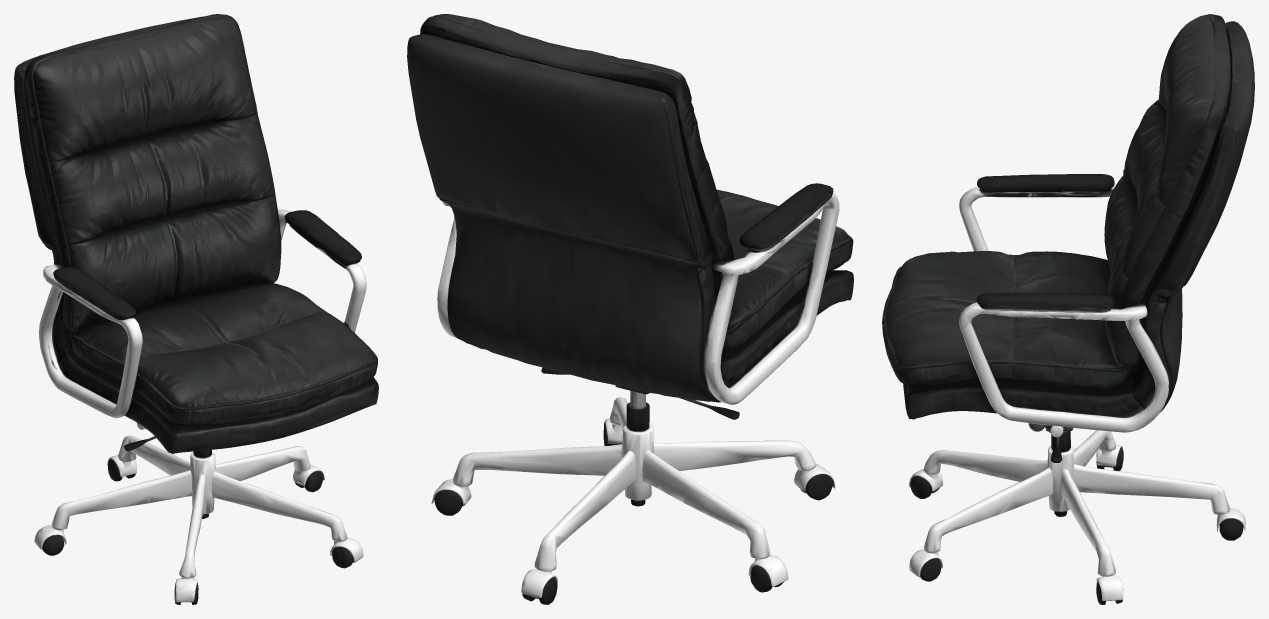
File: chair.glb
The picture shows the model from 3 angles, left to right: view 1: azimuth 30°, elevation 25°; view 2: azimuth 150°, elevation 25°; view 3: azimuth 270°, elevation 25°; orthographic projection. The views are drawn at different scales.
Parts seen in each view (by area): view 1: model; view 2: model; view 3: model.
Part boxes in pixels (box(x1,y1,x2,y2)): model: box(14, 14, 378, 604); model: box(407, 14, 853, 604); model: box(882, 14, 1254, 604).
Size of the model in its own units: 1.26 by 1.9 by 1.35.
1 material, 1 textured.
